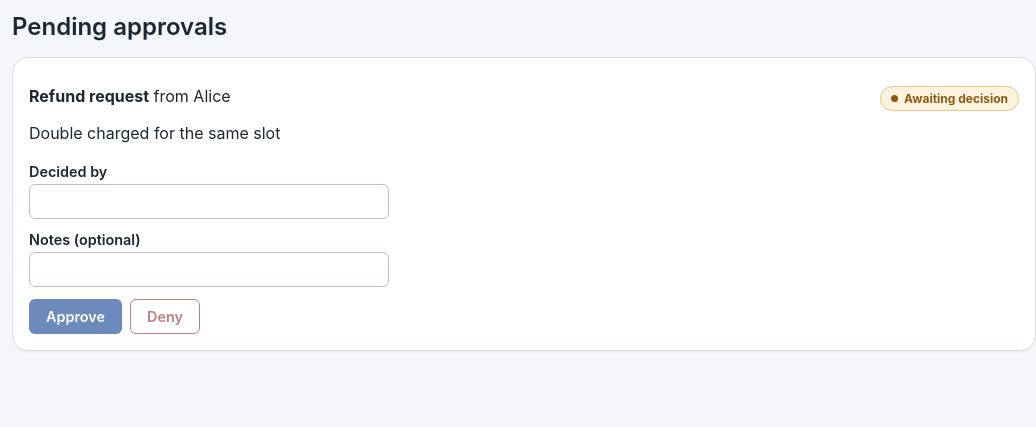
Test: ApprovalsPage › shows an error and keeps the escalation listed if the decision fails
Expected: the text "Refund request" is shown, [29,86,149,106]
Type "Manager Mo" into the field labelled "Decided by" at coordinates (209, 202), box [29,184,389,219]
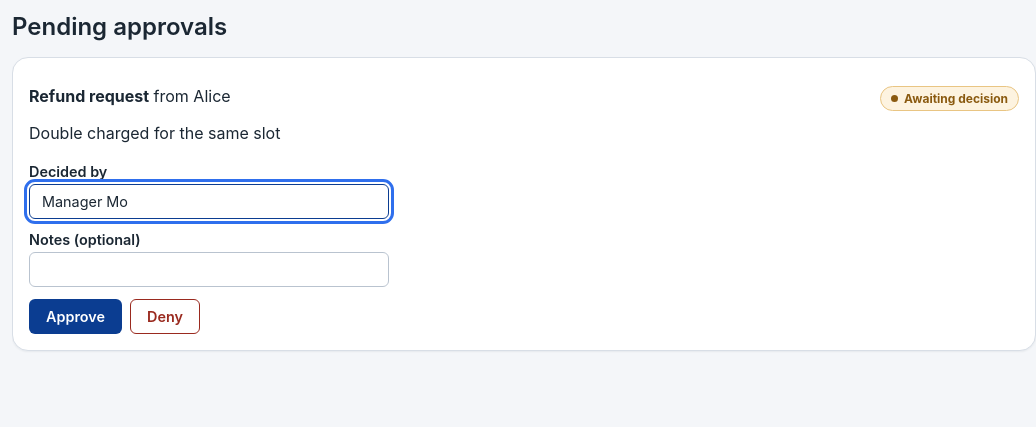
Click the button "Approve" at coordinates (76, 317), box [29,299,122,334]
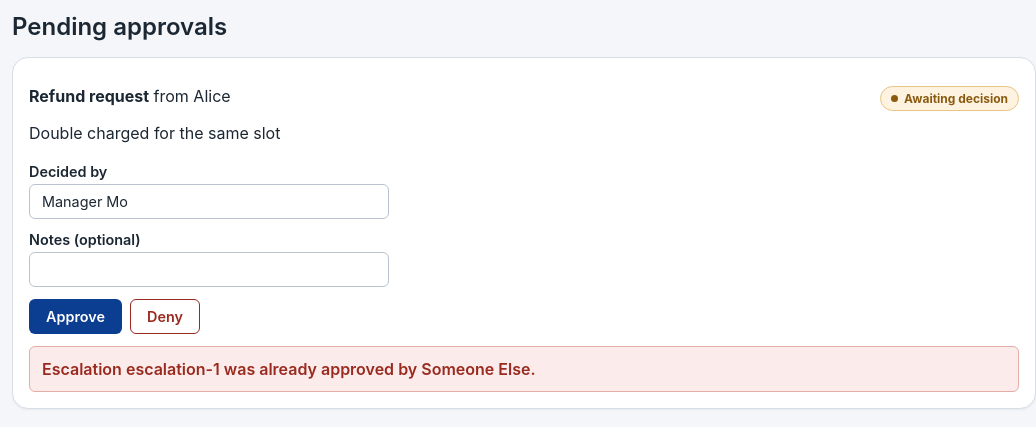
Expected: the text "Refund request" is shown, [29,86,149,106]
Now the message shows "already approved", box [42,359,536,379]
